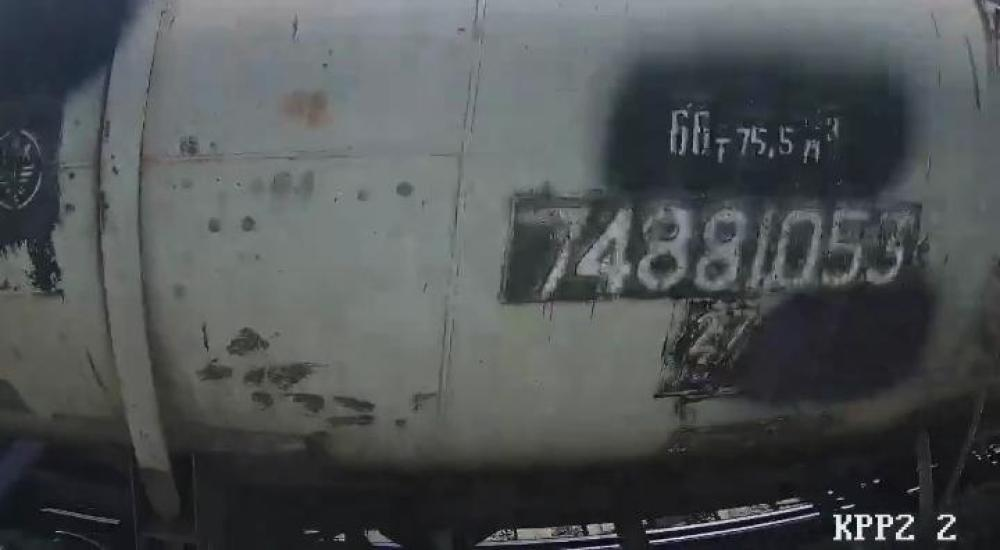Wagon-number: (518, 202, 914, 295)
